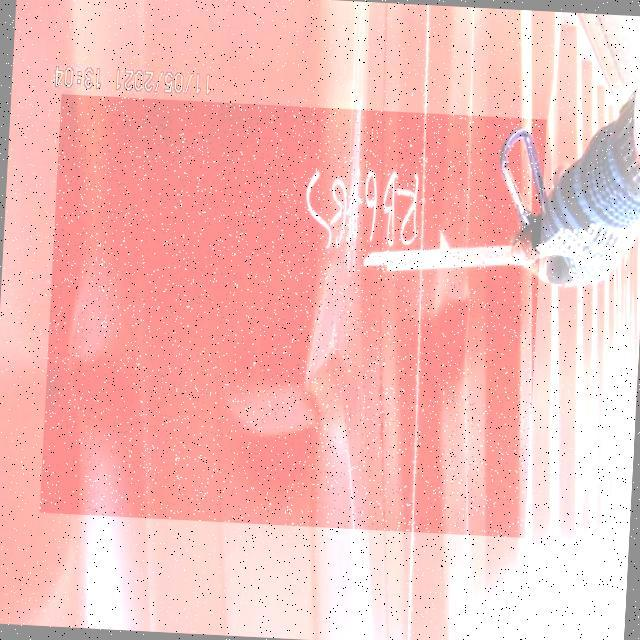Dent: (40, 94, 547, 538)
